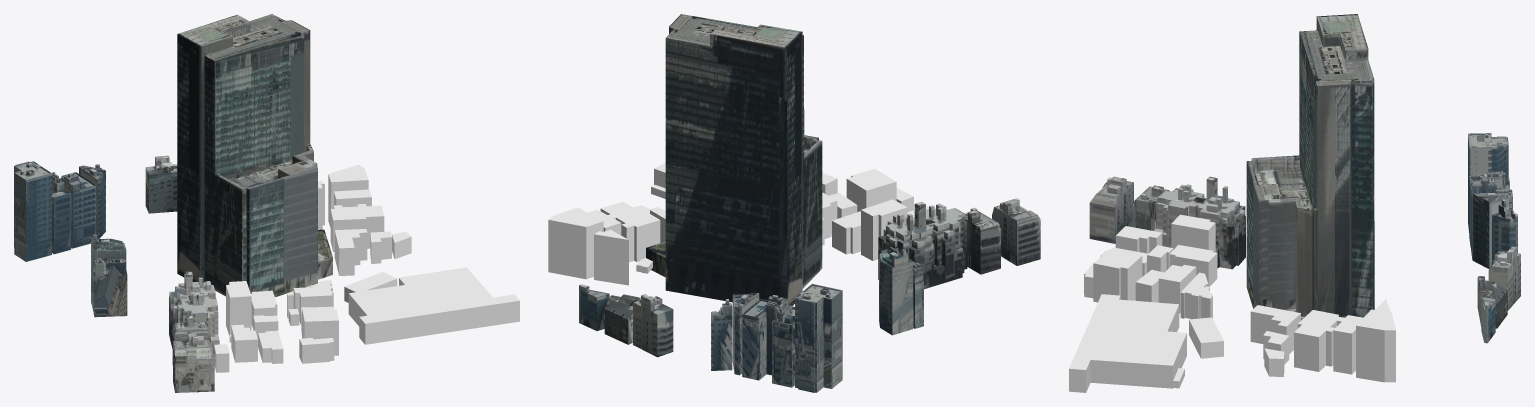
File: data440.glb
The picture shows the model from 3 angles, left to right: view 1: azimuth 30°, elevation 25°; view 2: azimuth 150°, elevation 25°; view 3: azimuth 270°, elevation 25°; orthographic projection. The views are drawn at different scales.
Size of the model in its own units: 177 by 127 by 192.
Materials: 2 (1 with a texture image).
